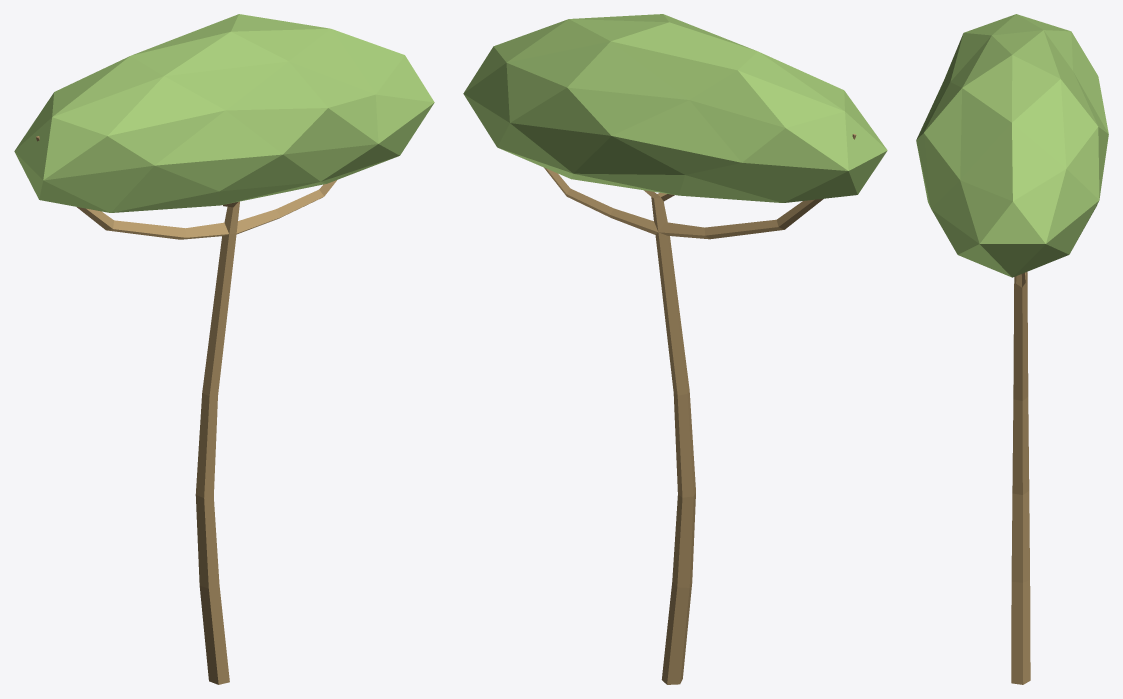
The model's file is Acacia_Tree_m_01.fbx.
The picture shows the model from 3 angles, left to right: view 1: azimuth 30°, elevation 25°; view 2: azimuth 150°, elevation 25°; view 3: azimuth 270°, elevation 25°; orthographic projection. The views are drawn at different scales.
Parts seen in each view (by area): view 1: Acacia_Tree_m_01; view 2: Acacia_Tree_m_01; view 3: Acacia_Tree_m_01.
Part boxes in pixels (x1,y1,x2,y2): Acacia_Tree_m_01: (14,14,434,684); Acacia_Tree_m_01: (463,14,887,684); Acacia_Tree_m_01: (916,14,1108,684).
Bounding box in the file's own units: 650 × 1036 × 288.
